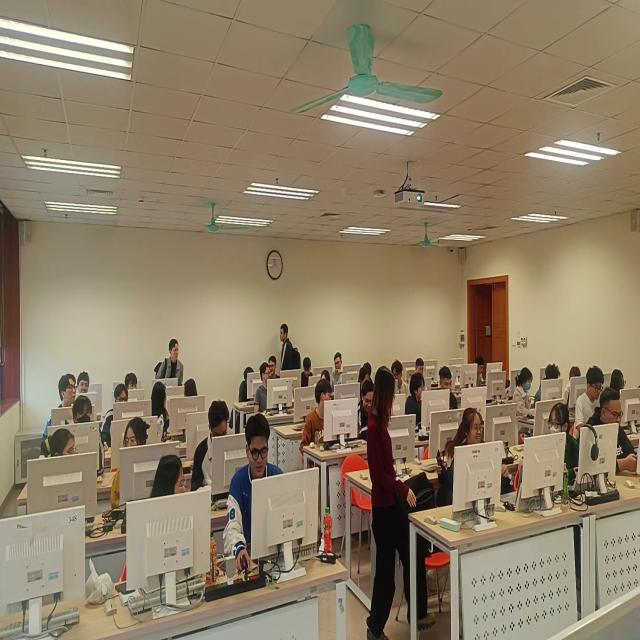raise_head: (74, 396, 106, 477), (79, 372, 91, 394), (126, 373, 139, 391)
stand: (365, 367, 437, 640), (155, 339, 185, 387), (279, 324, 302, 379)
using_computer: (224, 414, 284, 573), (191, 400, 231, 493), (574, 366, 605, 436), (101, 385, 130, 452), (535, 364, 562, 410), (513, 368, 535, 421), (358, 381, 376, 440), (440, 367, 460, 412), (610, 369, 627, 399), (475, 356, 488, 387), (302, 358, 314, 388), (359, 367, 370, 387), (416, 359, 425, 376)
using_phone: (584, 388, 639, 474)
